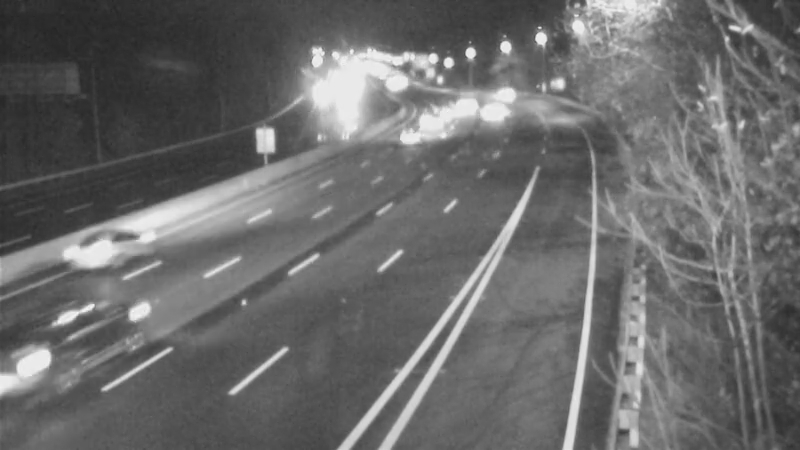vehicle: (1, 304, 106, 414), (51, 212, 131, 292), (473, 70, 523, 120), (441, 76, 491, 126), (416, 86, 466, 136), (470, 85, 520, 135), (404, 96, 454, 146), (387, 108, 437, 158)
